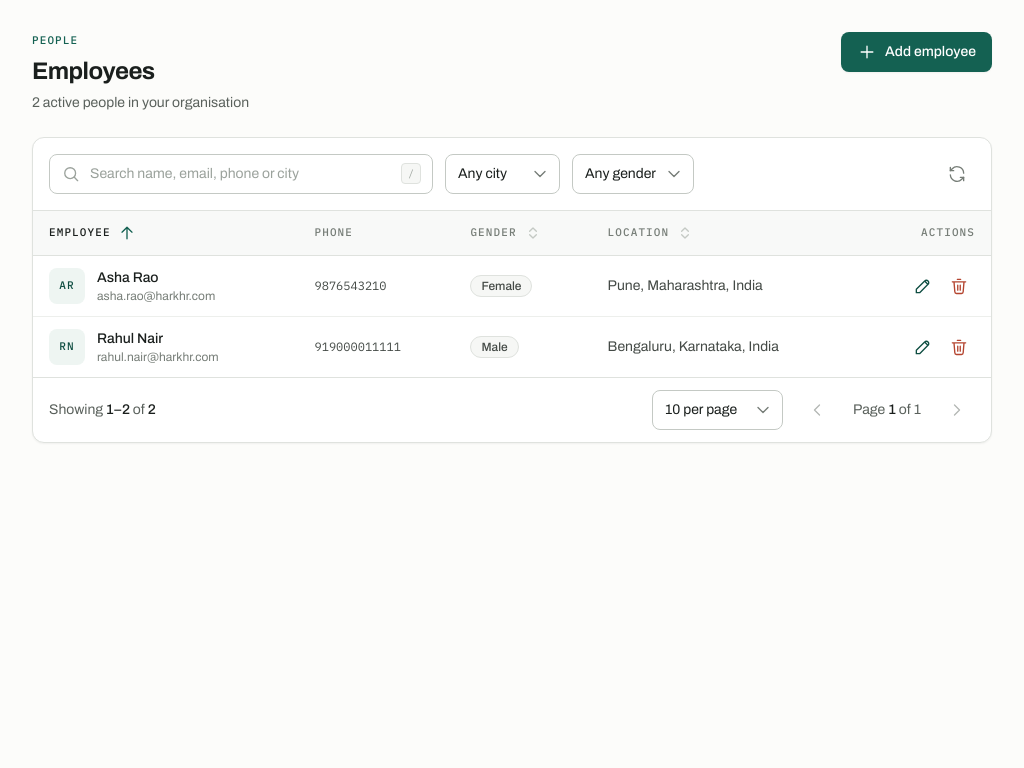
Test: EmployeesPage — editing › opens pre-filled with that employee and no password field
The image size is (1024, 768).
Expected: the heading "Employees" is shown, [32,58,155,84]
Expected: the button "Asha Rao" is shown, [97,268,158,288]
Click the button named "Edit Asha Rao" at (923, 286), box [907,270,939,302]
(page scrolled)
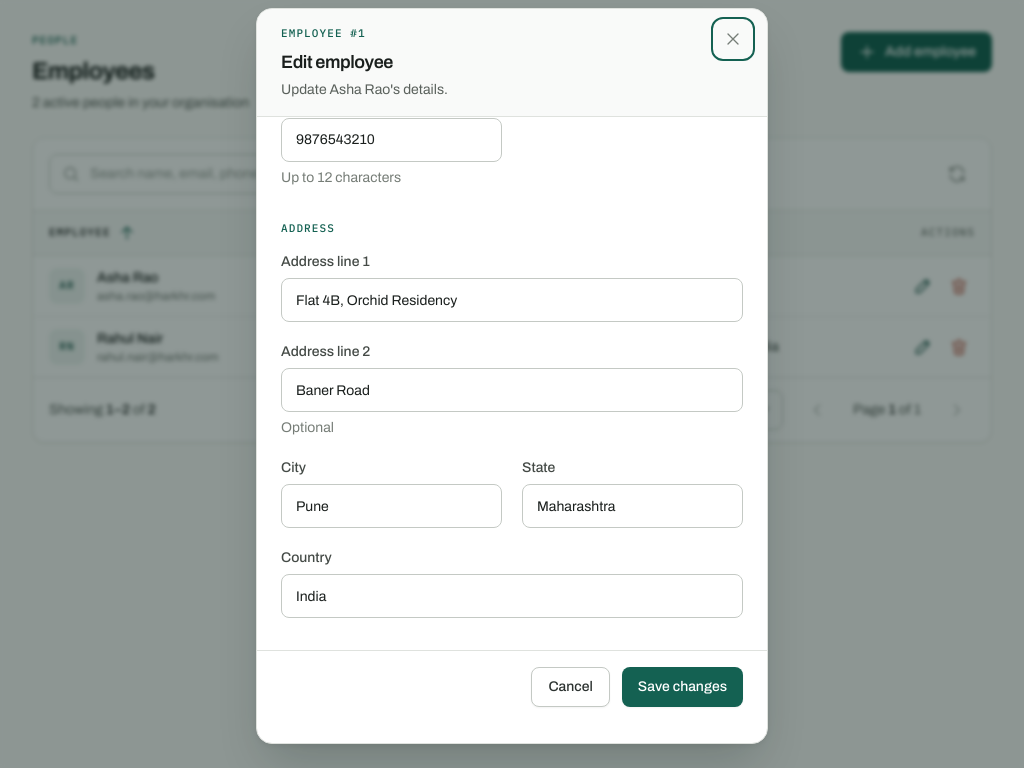
Now the field labelled "City" holds "Pune", box [281,484,502,528]
